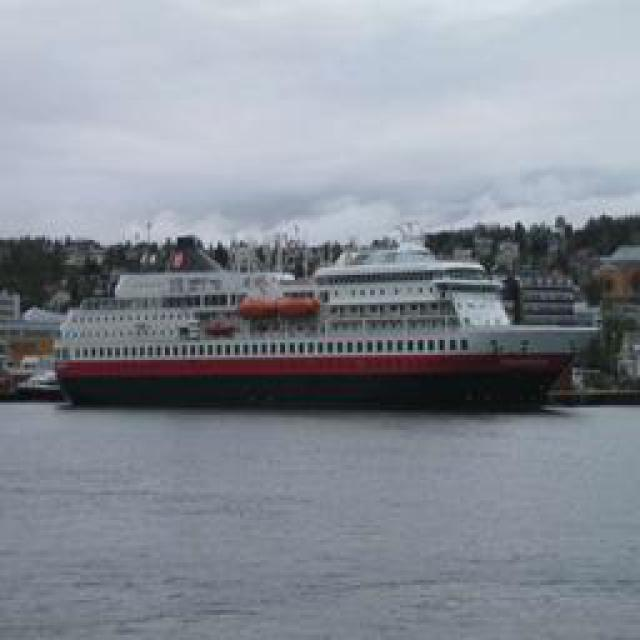Ship: (61, 246, 611, 416)
